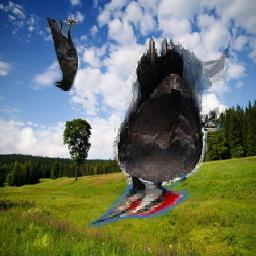Crow: (46, 15, 78, 91)
Woodpecker: (82, 39, 231, 228)
